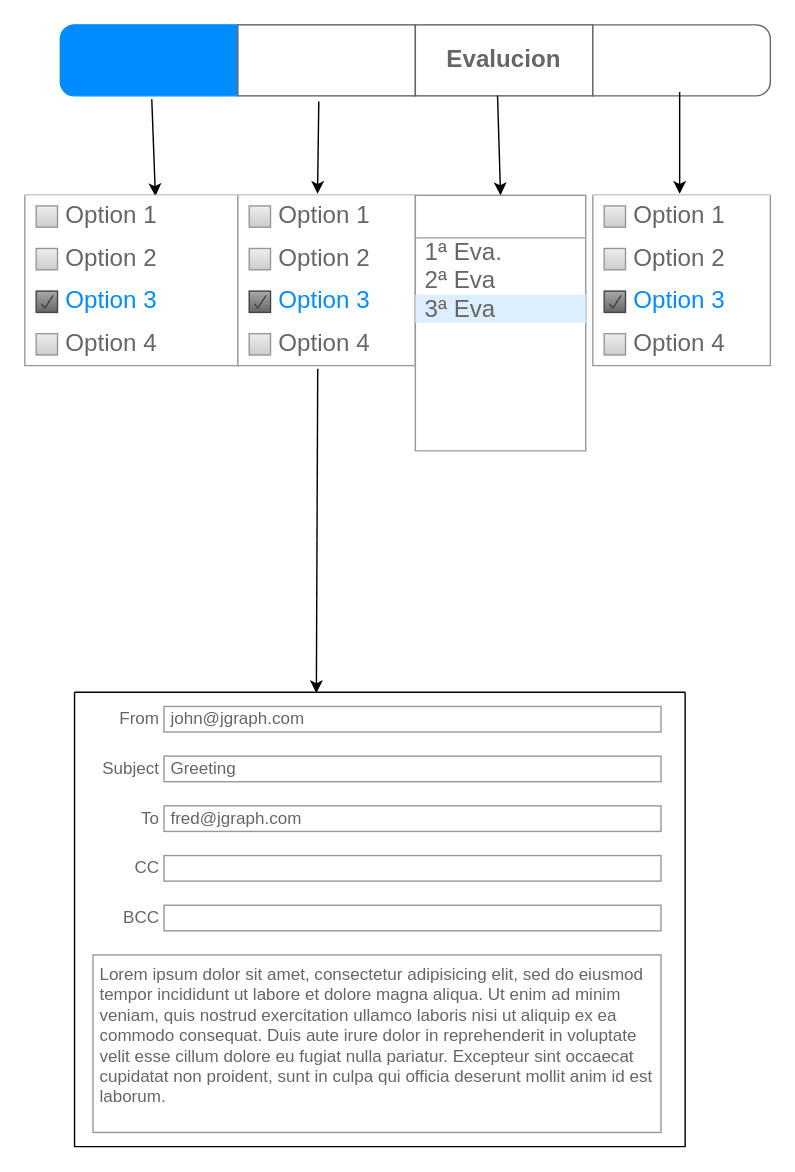
Some shapes in this 795 by 1172 pixel diagram are drawn without their labels. The box of each missing label's shape, as (x1, y1, x2, y2) in pixels:
Alumnos: (59, 23, 238, 96)
Evaluaciones: (414, 194, 586, 451)
Notas: (591, 23, 770, 96)
Padres: (236, 23, 415, 96)
